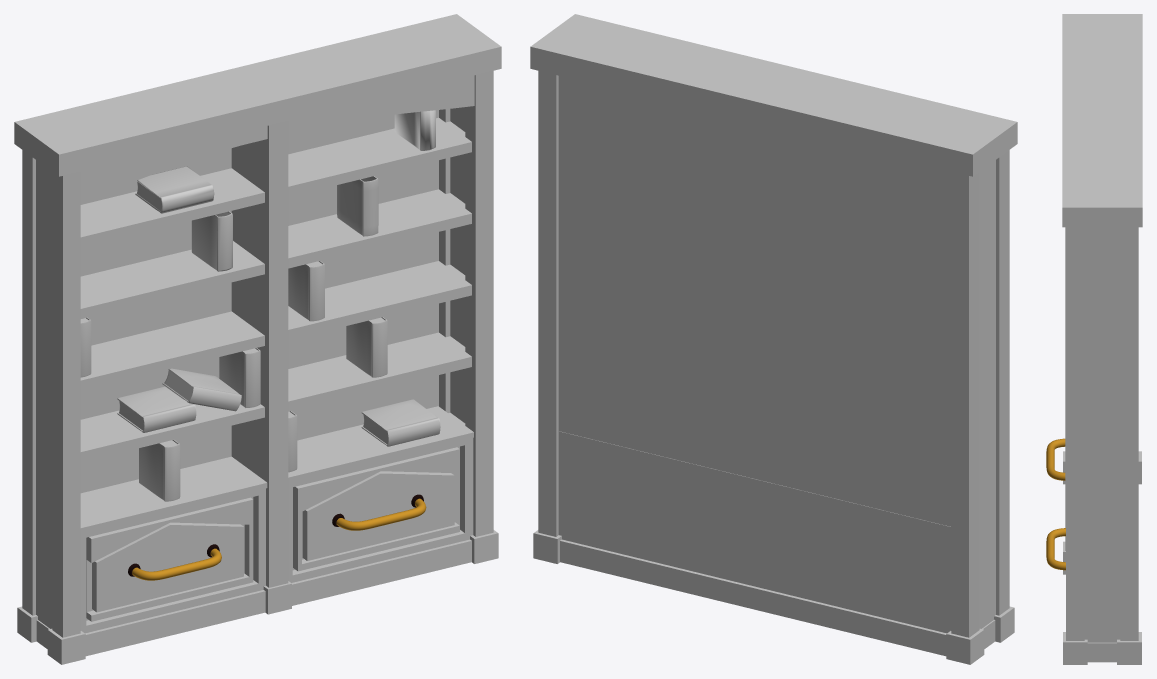
Rendered from bookshielf.obj.
3 renders of one model, left to right at view 1: azimuth 30°, elevation 25°; view 2: azimuth 150°, elevation 25°; view 3: azimuth 270°, elevation 25°, orthographic. The views are drawn at different scales.
Parts seen in each view (by area): view 1: Cube, Cube.020, Cube.023, Cube.018, Cylindre.003, Cube.001, Cube.015, Cube.016, Cube.011, Cube.013, Cube.004, Cube.022 (+1 smaller); view 2: Cube; view 3: Cube, Cylindre.003.
Part boxes in pixels (x1,y1,x2,y2): Cube: (14, 14, 501, 664); Cube.020: (361, 399, 440, 446); Cube.023: (135, 166, 214, 213); Cube.018: (117, 386, 196, 432); Cylindre.003: (128, 494, 426, 580); Cube.001: (139, 440, 180, 501); Cube.015: (337, 176, 378, 236); Cube.016: (191, 211, 232, 271); Cube.011: (346, 317, 387, 377); Cube.013: (288, 261, 324, 321); Cube.004: (219, 348, 260, 407); Cube.022: (162, 368, 241, 411); Cube: (530, 14, 1017, 664); Cube: (1062, 14, 1142, 664); Cylindre.003: (1046, 438, 1065, 570).
Bounding box in the file's own units: 10.45 × 11.54 × 2.19.
